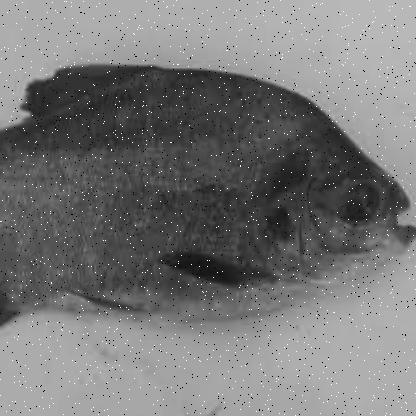ikan-pacu: (0, 59, 402, 325)
